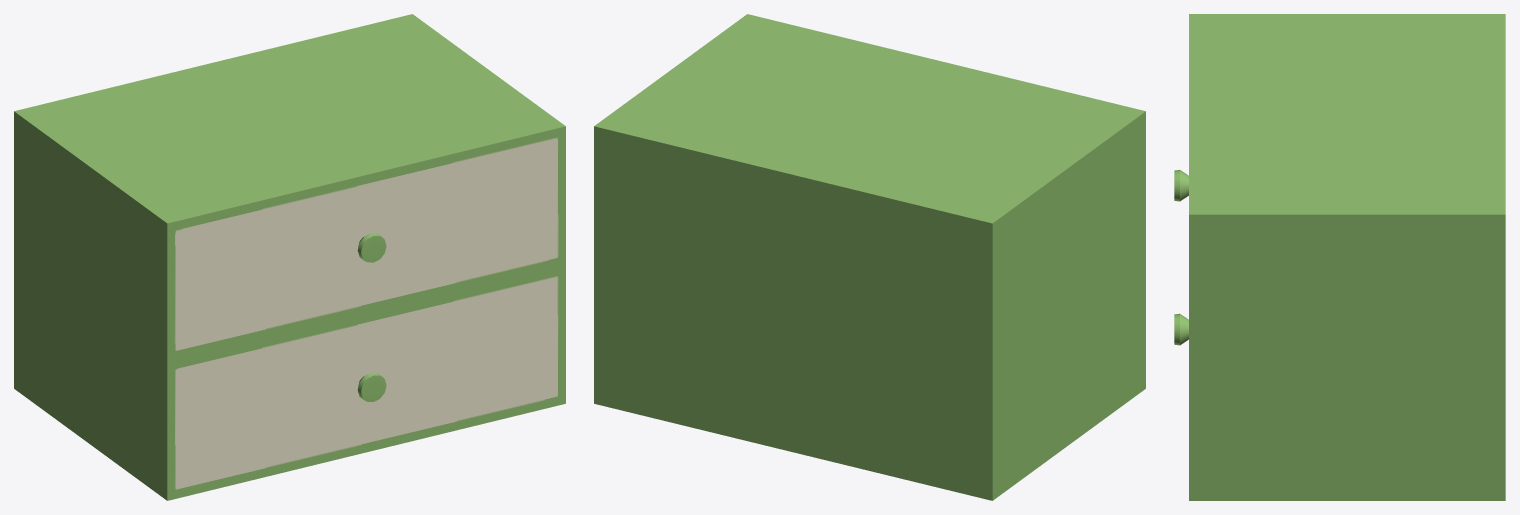
The model's file is drawer_lightgreen.glb.
3 renders of one model, left to right at view 1: azimuth 30°, elevation 25°; view 2: azimuth 150°, elevation 25°; view 3: azimuth 270°, elevation 25°, orthographic. The views are drawn at different scales.
Parts seen in each view (by area): view 1: Box003; view 2: Box003; view 3: Box003.
Boxes of the visible parts, <box> form: Box003: <box>14,14,565,500</box>; Box003: <box>594,14,1145,500</box>; Box003: <box>1174,14,1505,500</box>.
Size of the model in its own units: 0.12 by 0.0798 by 0.0838.
Materials: 1 (1 with a texture image).
